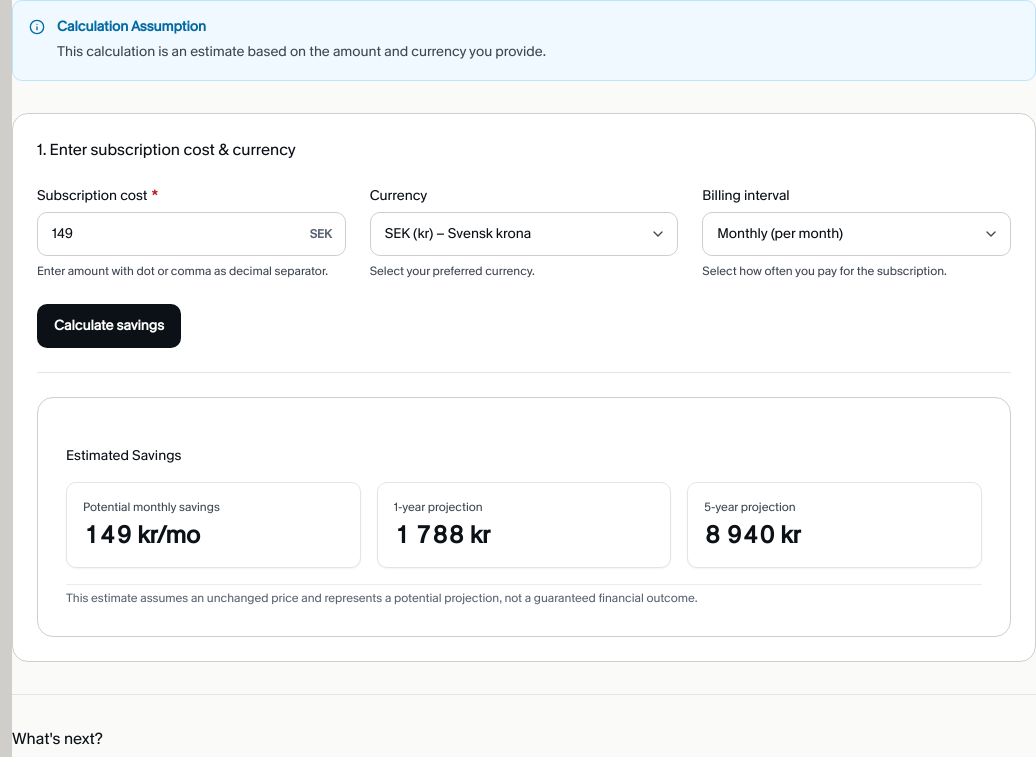
Test: SavingsCalculator Component › updates calculation dynamically on valid input with comma and dot decimals
Replace the text in the field labelled "Subscription cost *" with "299,50" at x=191, y=234, box [37,212,346,256]
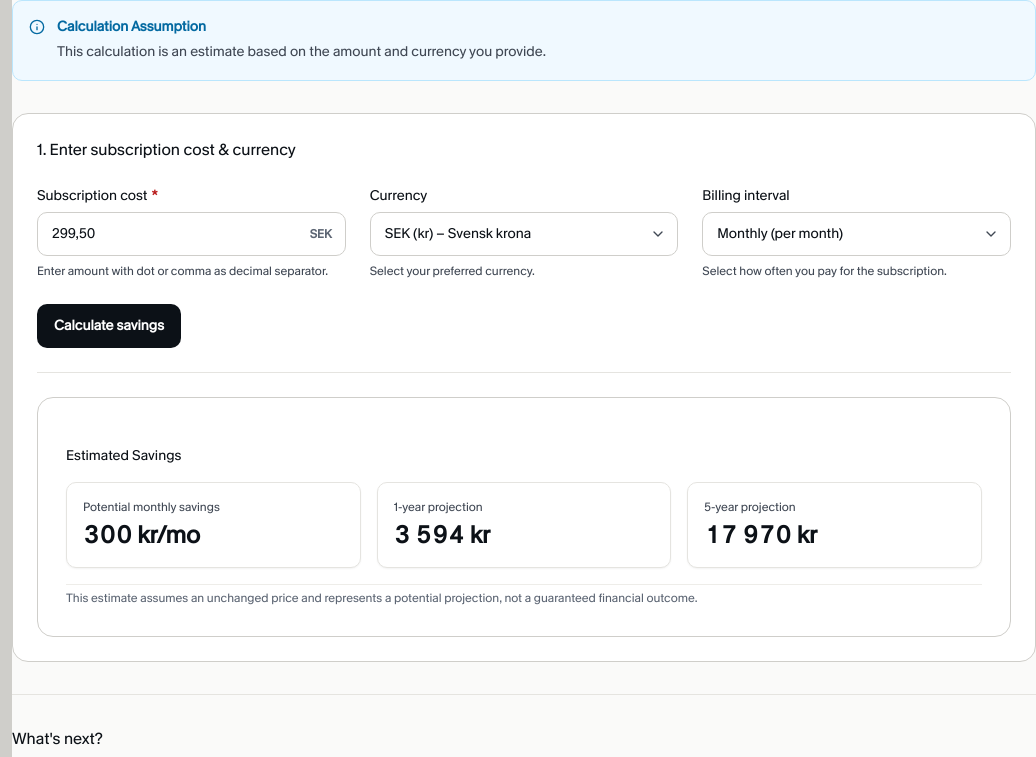
Check: the text "3 594 kr" is shown, box [394,519,490,551]
Check: the text "17 970 kr" is shown, box [704,519,817,551]
